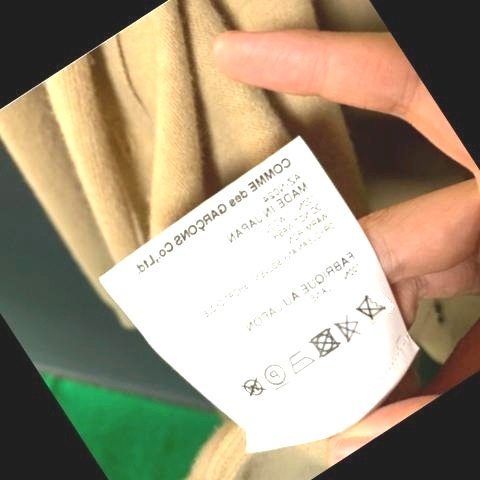DN_bleach: (334, 312, 361, 343)
DN_tumble_dry: (307, 330, 338, 358)
DN_wash: (356, 290, 385, 323)
DN_wet_clean: (239, 375, 265, 399)
dry_clean_any_solvent_except_trichloroethylene: (261, 360, 288, 391)
iron_medium: (285, 347, 317, 377)
